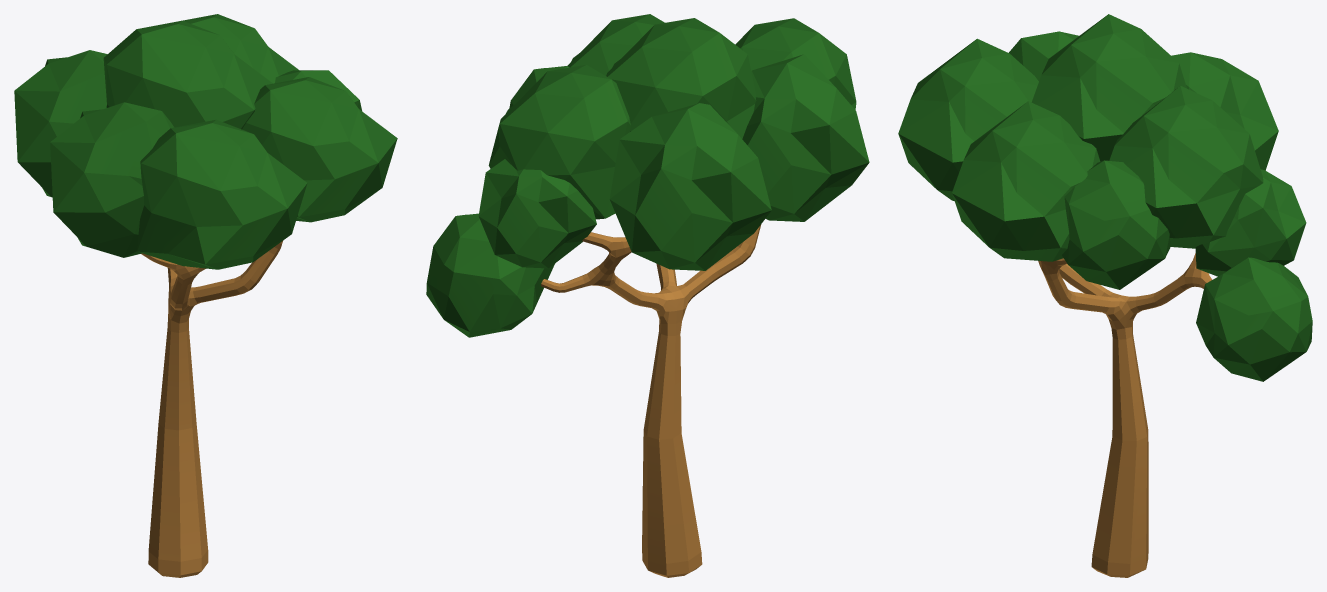
Rendered from tree.120_lev4.glb.
3 renders of one model, left to right at view 1: azimuth 30°, elevation 25°; view 2: azimuth 150°, elevation 25°; view 3: azimuth 270°, elevation 25°, orthographic. The views are drawn at different scales.
Parts seen in each view (by area): view 1: tree.120_lev4; view 2: tree.120_lev4; view 3: tree.120_lev4.
Boxes of the visible parts, <box> form: tree.120_lev4: <box>14,14,397,577</box>; tree.120_lev4: <box>426,14,869,577</box>; tree.120_lev4: <box>898,14,1312,577</box>.
Bounding box in the file's own units: 0.6427 × 1 × 0.7033.
